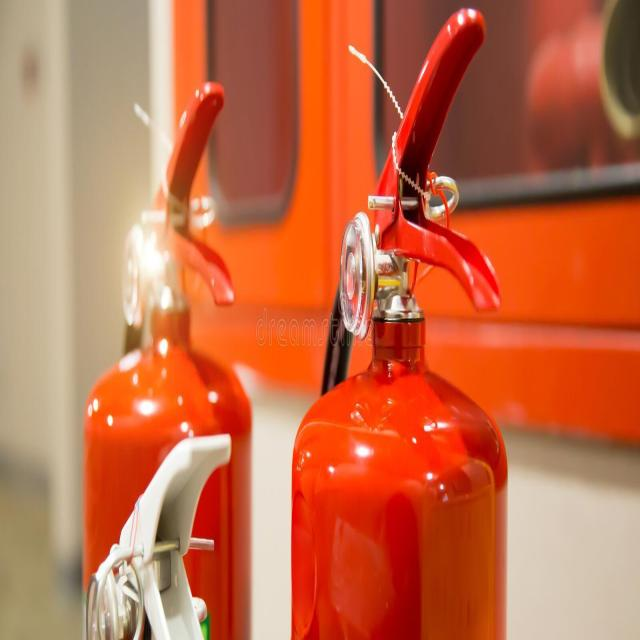fire_extinguisher: (288, 0, 516, 639), (78, 74, 259, 639)
